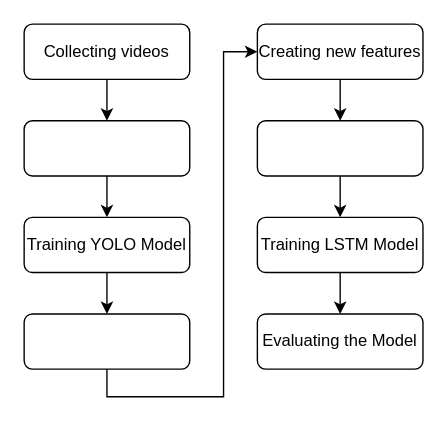
This 447x432 diagram has some shape labels left out. Here are the shapes that lost their labels. From the top down, the box of each, then its label:
(23, 119, 190, 176): Mapping Key Points
(256, 119, 423, 176): Labeling the windows
(23, 313, 190, 369): Extracting Keypoints
